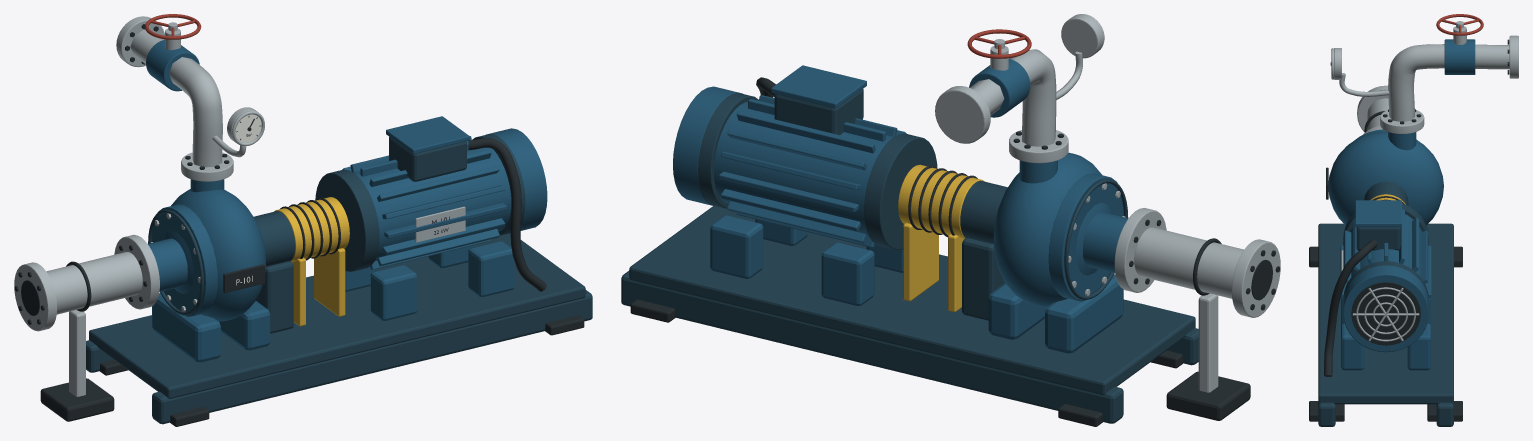
Rendered from skab.glb.
3 views of the same model, side by side, from view 1: azimuth 30°, elevation 25°; view 2: azimuth 150°, elevation 25°; view 3: azimuth 270°, elevation 25° (orthographic). The views are drawn at different scales.
Visible parts, largest first — view 1: static_Pump · cast casing, static_Pump · enamel blue, static_Pump · machined steel, static_Pump · graphite, static_Pump · coupling guard, static_Pump · valve wheel, static_Pump · instrument dial; view 2: static_Pump · cast casing, static_Pump · enamel blue, static_Pump · machined steel, static_Pump · graphite, static_Pump · coupling guard, static_Pump · valve wheel; view 3: static_Pump · enamel blue, static_Pump · cast casing, static_Pump · machined steel, static_Pump · graphite, static_Pump · valve wheel.
Boxes of the visible parts, bbox=[...] form: static_Pump · cast casing: bbox=[86, 134, 592, 424]; static_Pump · enamel blue: bbox=[146, 39, 547, 362]; static_Pump · machined steel: bbox=[14, 16, 465, 396]; static_Pump · graphite: bbox=[14, 24, 584, 426]; static_Pump · coupling guard: bbox=[274, 197, 349, 326]; static_Pump · valve wheel: bbox=[145, 14, 201, 39]; static_Pump · instrument dial: bbox=[235, 114, 261, 285]; static_Pump · cast casing: bbox=[621, 89, 1198, 423]; static_Pump · enamel blue: bbox=[673, 59, 1128, 353]; static_Pump · machined steel: bbox=[935, 14, 1280, 392]; static_Pump · graphite: bbox=[630, 77, 1280, 426]; static_Pump · coupling guard: bbox=[898, 164, 984, 312]; static_Pump · valve wheel: bbox=[967, 29, 1031, 58]; static_Pump · enamel blue: bbox=[1328, 39, 1475, 370]; static_Pump · cast casing: bbox=[1318, 181, 1453, 426]; static_Pump · machined steel: bbox=[1331, 21, 1518, 341]; static_Pump · graphite: bbox=[1309, 39, 1509, 421]; static_Pump · valve wheel: bbox=[1436, 14, 1483, 35].
Size of the model in its own units: 4.14 by 2.39 by 1.7.
